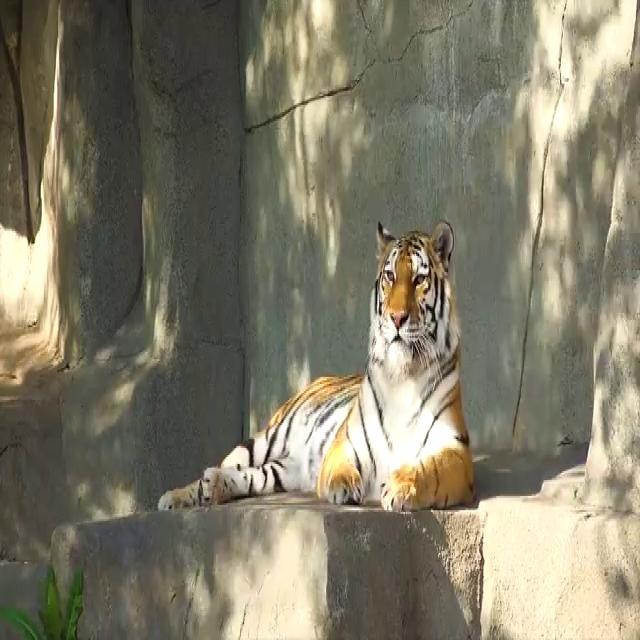tiger: (158, 221, 476, 513)
